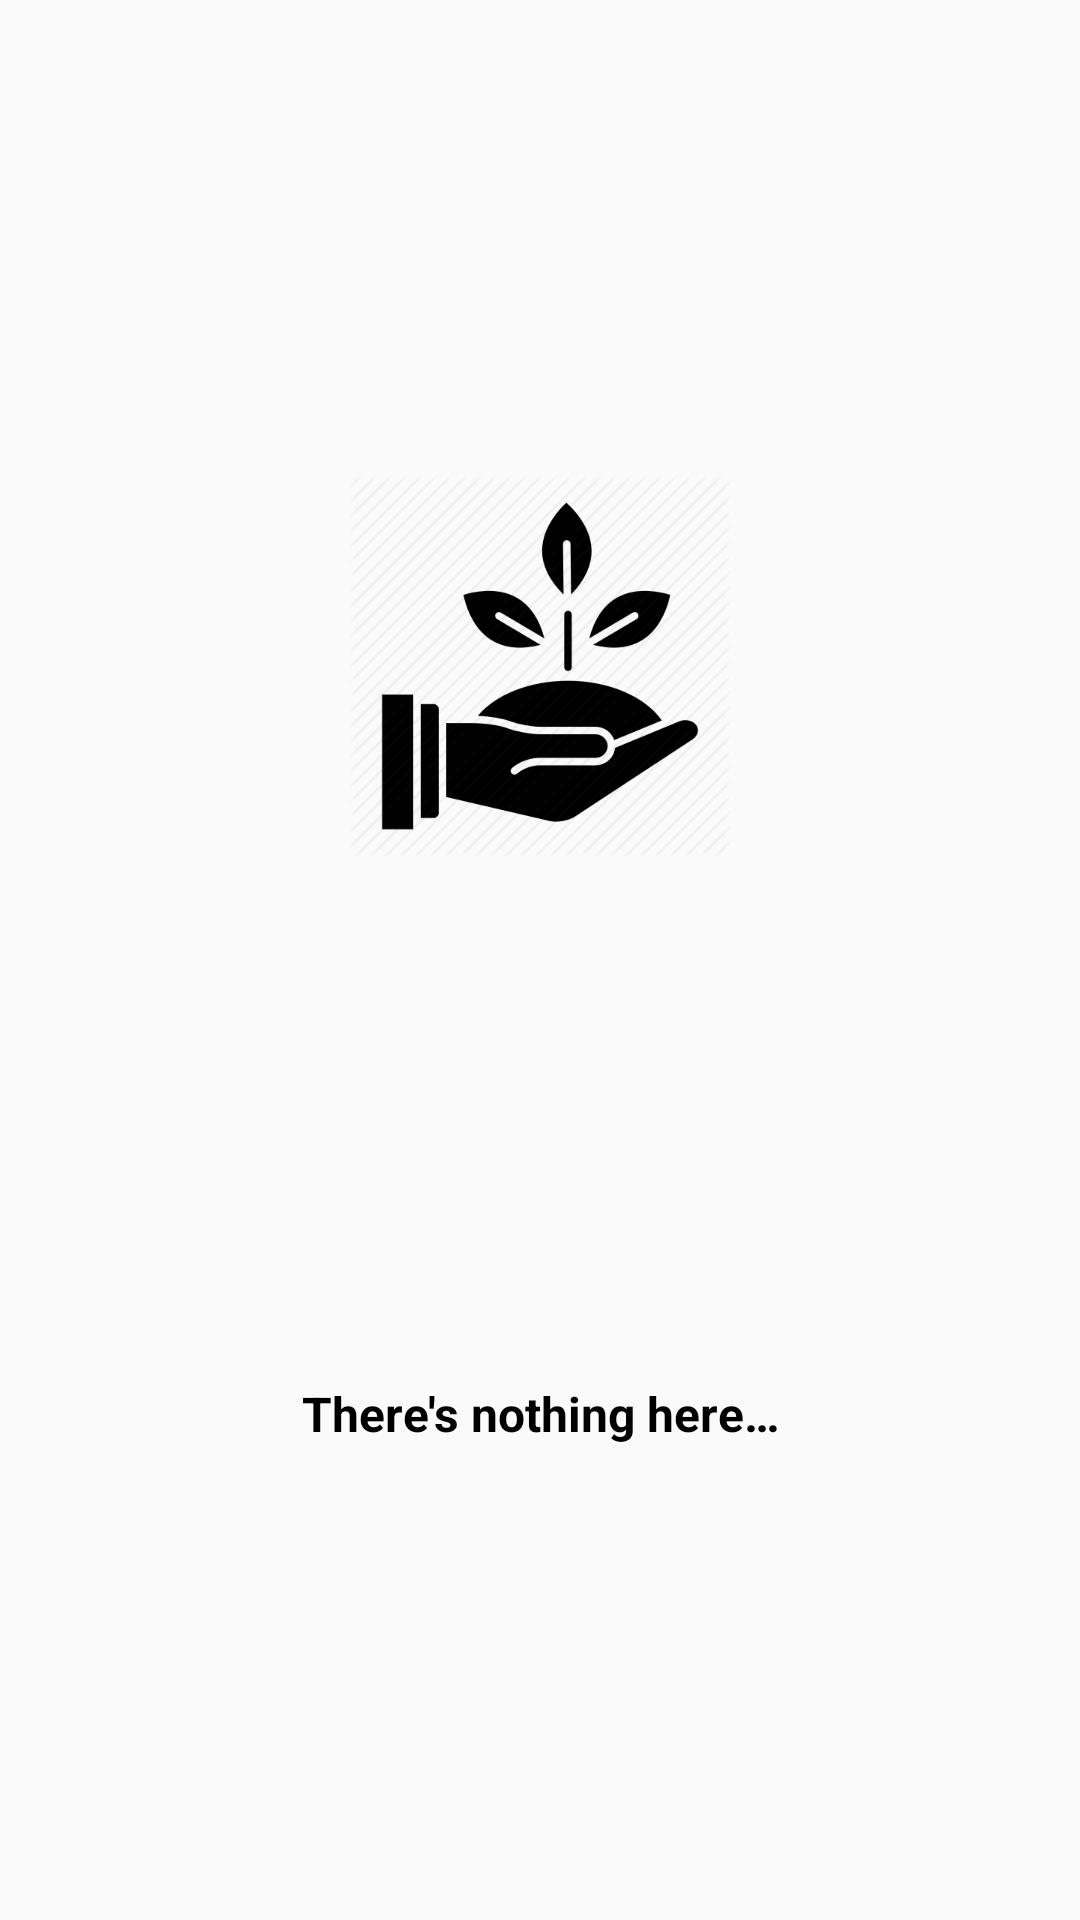

Screen size 1080px x 1920px. Icon name, then its box in pixels as (x1, y1, x2, y2):
ecology: (381, 502, 698, 830)
